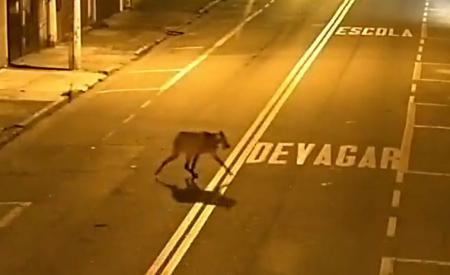LoboGuara: (152, 127, 242, 189)
